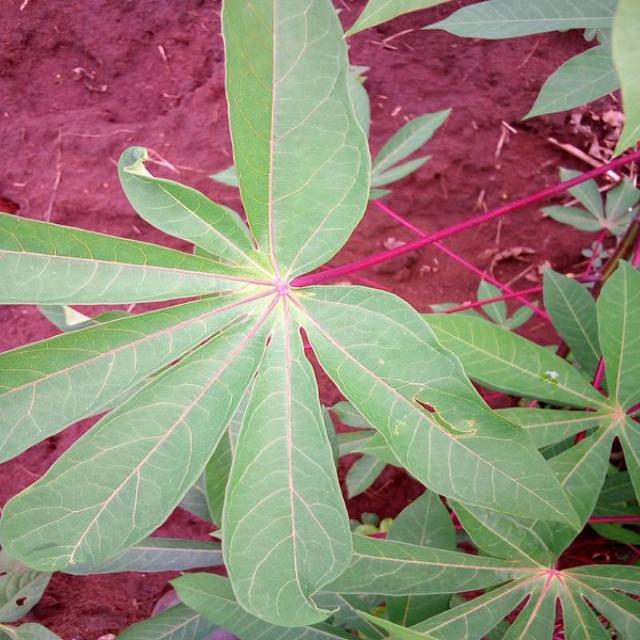cassava leaf: (0, 0, 590, 634), (218, 299, 354, 627), (219, 0, 372, 282)
